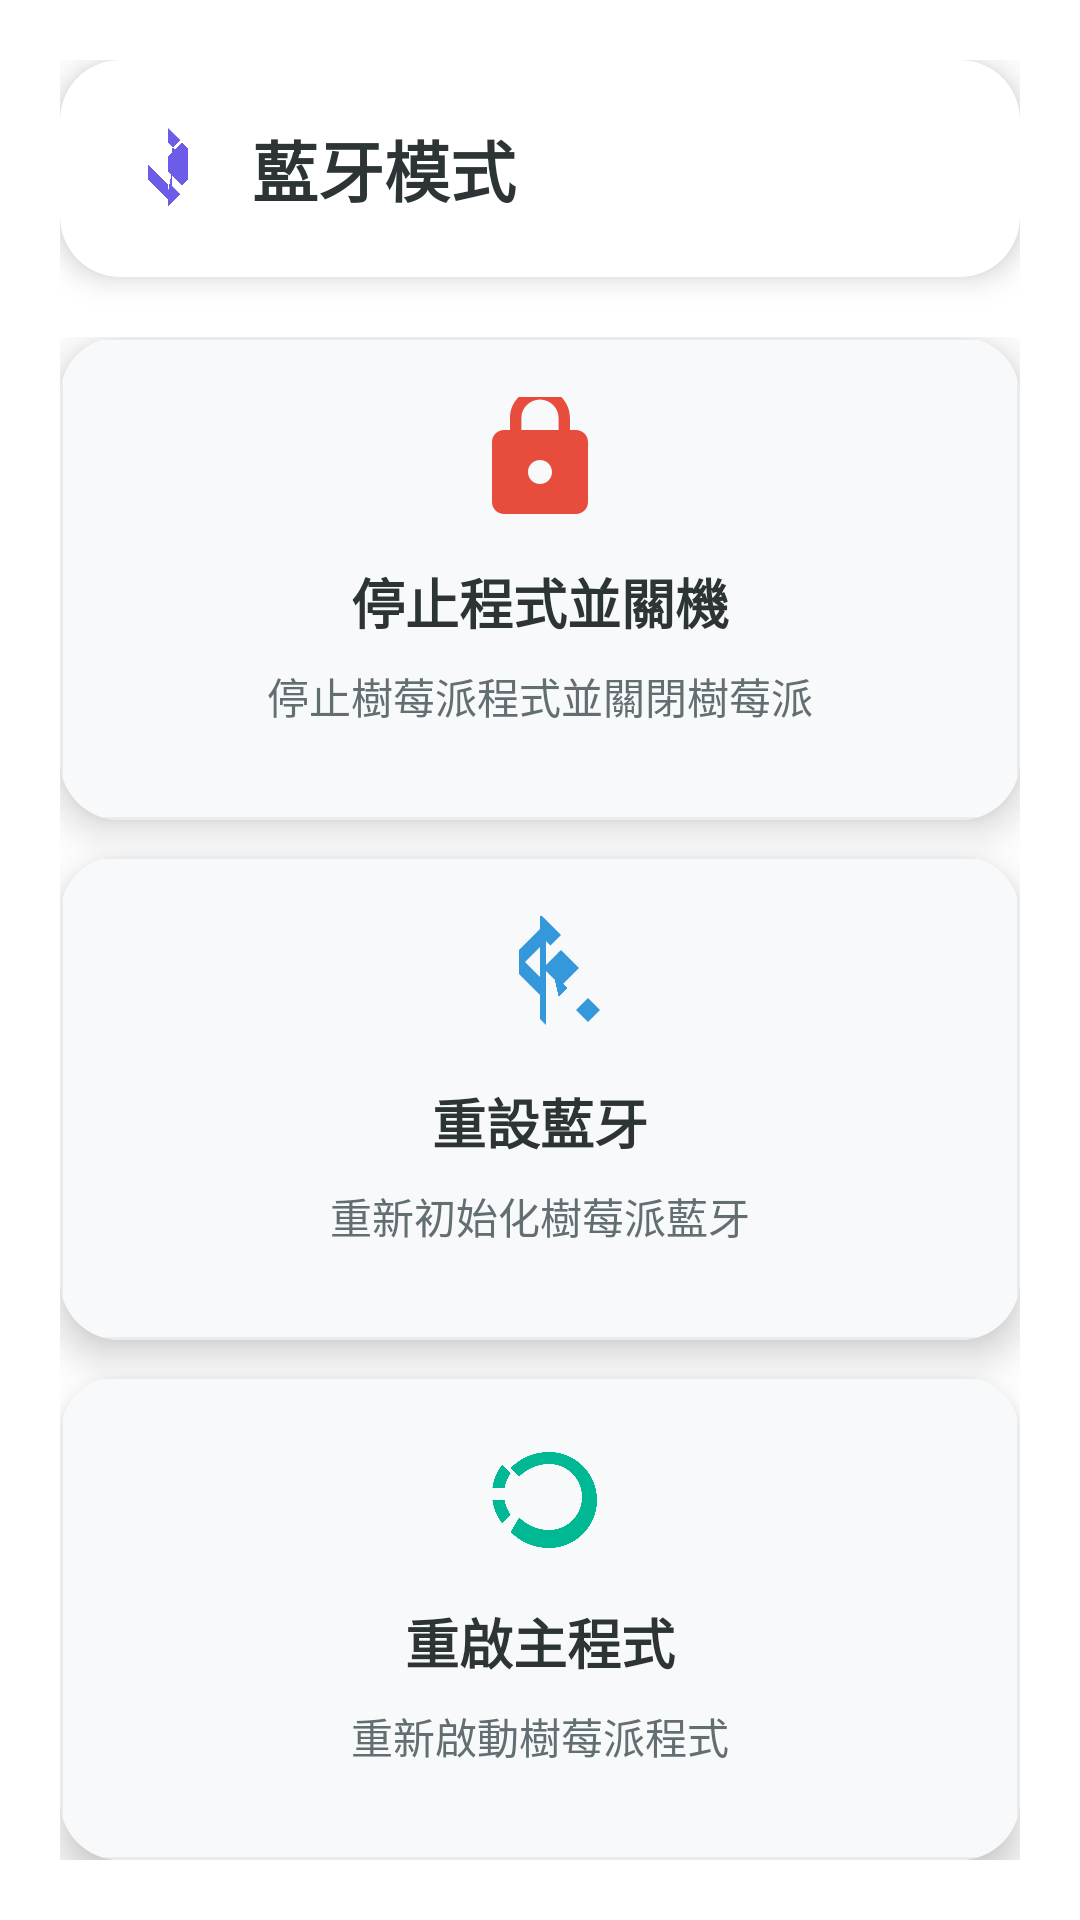

Where icons sit on this 1080px×1920px app screen, as rect(x1, y1, x2, y2):
lock: rect(492, 397, 588, 514)
rotate: rect(492, 1452, 597, 1548)
